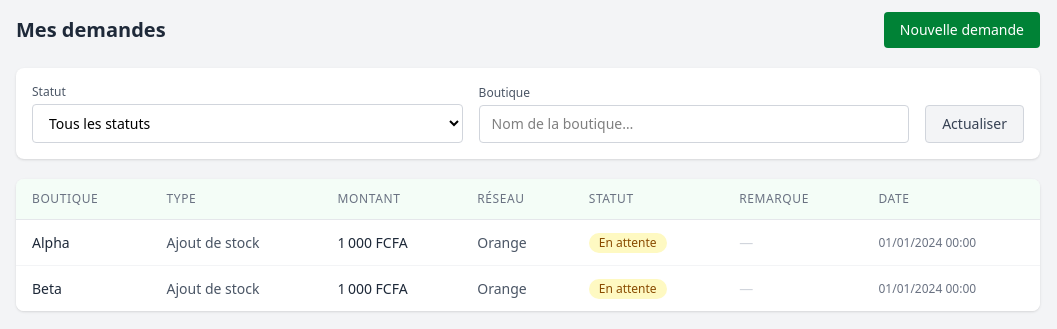
Test case: TC-080-ET — états › [ET-04] recherche boutique filtre côté client sans re-requête
Expected: the row with test id "request-row-r1" is shown, [16,220,1040,266]
Step 1. Type "bet" into the search field with test id "filter-store" → x=694, y=124, box [479,105,909,143]
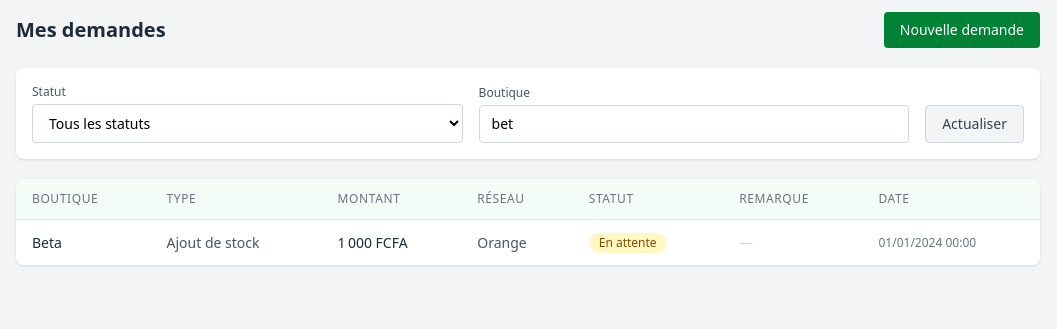
Expected: the row with test id "request-row-r2" is shown, [16,220,1040,265]
Now the row with test id "request-row-r1" is gone
